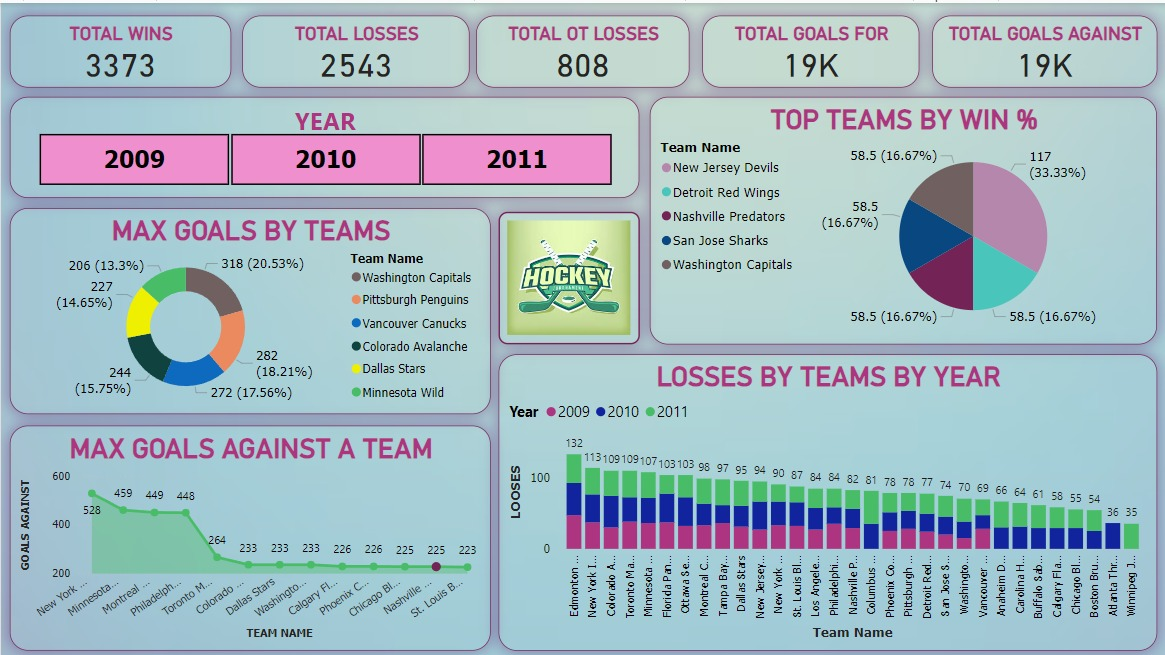

This screenshot's page, from the dashboard's own definition file:
{"tool":"powerbi","page":{"name":"Page 1","canvas":[1280,720],"ordinal":0},"visuals":[{"type":"slicer","title":"YEAR","fields":{"Values":["hockey_staging.Year"]},"box":[9.6,102.9,691.6,111.1],"z":0},{"type":"pieChart","title":"TOP TEAMS BY WIN %","fields":{"Category":["hockey_staging.Team Name"],"Y":["Sum(hockey_staging.Win %)"]},"box":[712.2,102.9,557.1,271.7],"z":1},{"type":"columnChart","title":"LOSSES BY TEAMS BY YEAR","fields":{"Category":["hockey_staging.Team Name"],"Series":["hockey_staging.Year"],"Y":["Sum(hockey_staging.Losses)"]},"box":[546.1,385.6,723.2,325.2],"z":2},{"type":"card","title":"TOTAL WINS","fields":{"Values":["Sum(hockey_staging.Wins)"]},"box":[9.6,13.7,242.9,79.6],"z":3},{"type":"card","title":"TOTAL LOSSES","fields":{"Values":["Sum(hockey_staging.Losses)"]},"box":[264.8,13.7,249.7,79.6],"z":4},{"type":"card","title":"TOTAL OT LOSSES","fields":{"Values":["Sum(hockey_staging.OT Losses)"]},"box":[521.4,13.7,234.6,79.6],"z":5},{"type":"card","title":"TOTAL GOALS FOR","fields":{"Values":["Sum(hockey_staging.Goals For (GF))"]},"box":[769.8,13.7,238.8,79.6],"z":6},{"type":"card","title":"TOTAL GOALS AGAINST","fields":{"Values":["Sum(hockey_staging.Goals Against (GA))"]},"box":[1022.3,13.7,247,79.6],"z":7},{"type":"lineChart","title":"MAX GOALS AGAINST A TEAM","fields":{"Category":["hockey_staging.Team Name"],"Y":["Sum(hockey_staging.Goals Against (GA))"]},"box":[9.6,463.8,528.3,247],"z":8},{"type":"donutChart","title":"MAX GOALS BY TEAMS","fields":{"Y":["Max(hockey_staging.Goals For (GF))"],"Category":["hockey_staging.Team Name"]},"box":[9.6,225,528.3,226.4],"z":9},{"type":"image","box":[546.1,229.2,155.1,145.5],"z":12}]}

Visuals, with their boxes in screenshot pixels (x1, y1, x2, y2), scaled from the page's 1280x720 canvas onto the 1165x655 screenshot:
"YEAR" slicer: l=9, t=94, r=638, b=195
"TOP TEAMS BY WIN %" pieChart: l=648, t=94, r=1155, b=341
"LOSSES BY TEAMS BY YEAR" columnChart: l=497, t=351, r=1155, b=647
"TOTAL WINS" card: l=9, t=12, r=230, b=85
"TOTAL LOSSES" card: l=241, t=12, r=468, b=85
"TOTAL OT LOSSES" card: l=475, t=12, r=688, b=85
"TOTAL GOALS FOR" card: l=701, t=12, r=918, b=85
"TOTAL GOALS AGAINST" card: l=930, t=12, r=1155, b=85
"MAX GOALS AGAINST A TEAM" lineChart: l=9, t=422, r=490, b=647
"MAX GOALS BY TEAMS" donutChart: l=9, t=205, r=490, b=411
image: l=497, t=209, r=638, b=341
